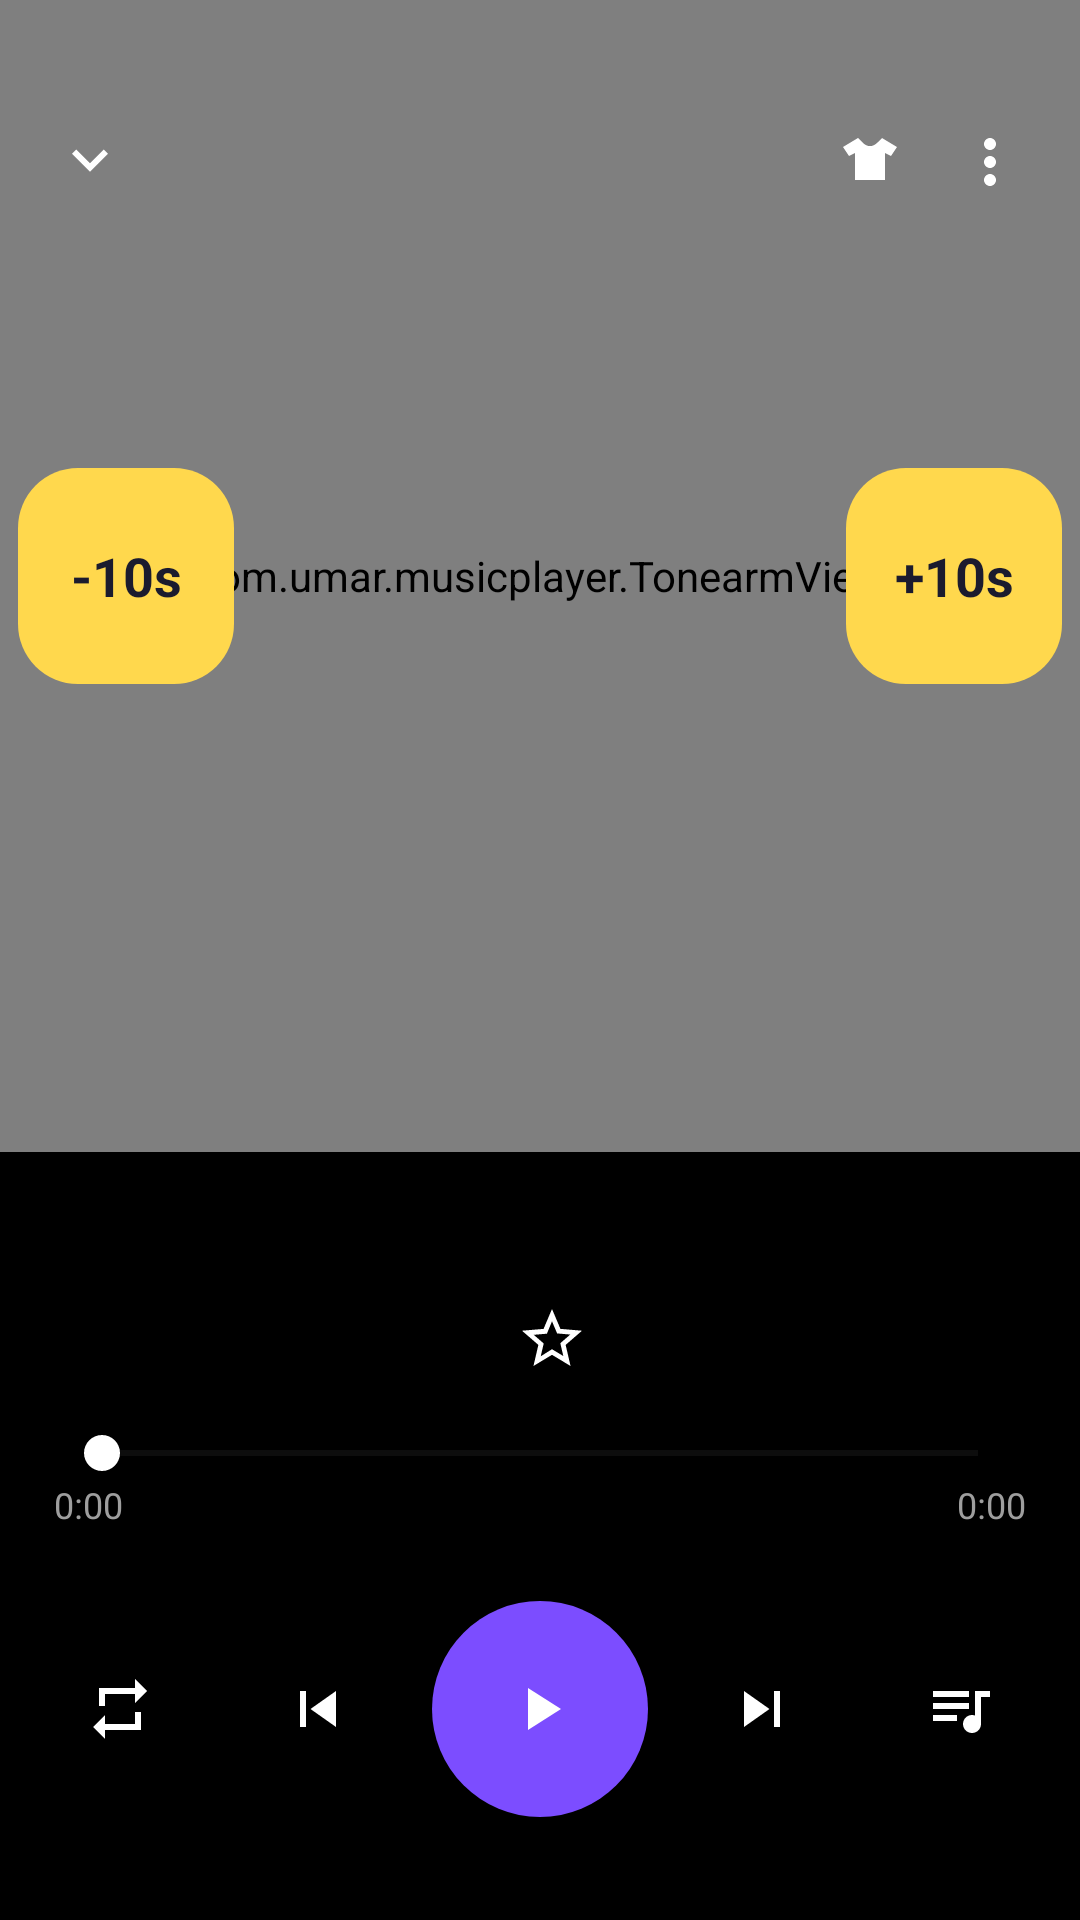

Icon bounding boxes for this 1080*1920 phone screenshot, format (x1, y1, x2, y2):
Favourites: (522, 1309, 582, 1366)
more: (984, 138, 996, 186)
Next: (744, 1691, 780, 1727)
Play: (432, 1601, 648, 1817)
Prev: (300, 1691, 336, 1727)
Queue: (933, 1691, 990, 1733)
tshirt: (843, 138, 897, 180)
